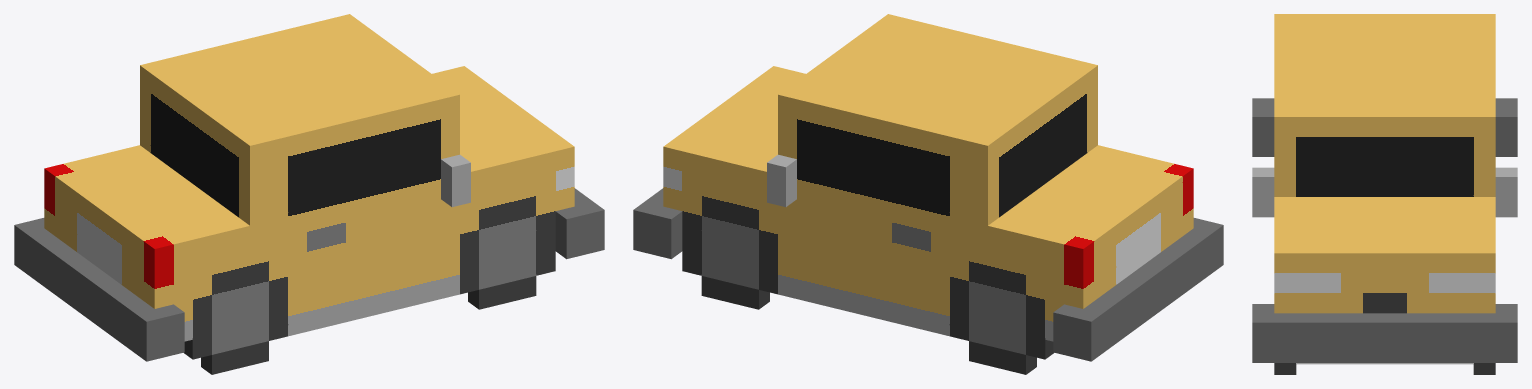
Rendered from veh_mini3.fbx.
3 views of the same model, side by side, from view 1: azimuth 30°, elevation 25°; view 2: azimuth 150°, elevation 25°; view 3: azimuth 270°, elevation 25° (orthographic).
Visible parts, largest first — view 1: veh_mini3; view 2: veh_mini3; view 3: veh_mini3.
Boxes of the visible parts, x1,y1,x2,y2 form: veh_mini3: (14, 14, 604, 374); veh_mini3: (633, 14, 1223, 374); veh_mini3: (1252, 14, 1517, 374).
Size of the model in its own units: 2.4 by 1.2 by 1.1.
1 material, 1 textured.
